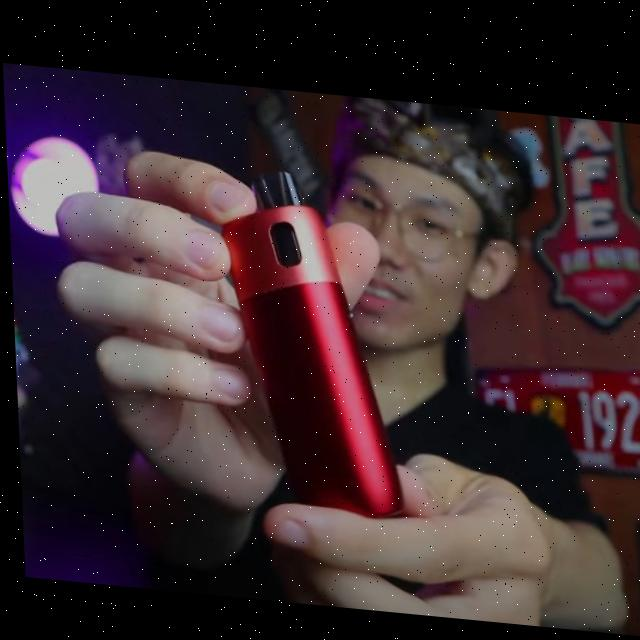vape: (219, 160, 403, 514)
